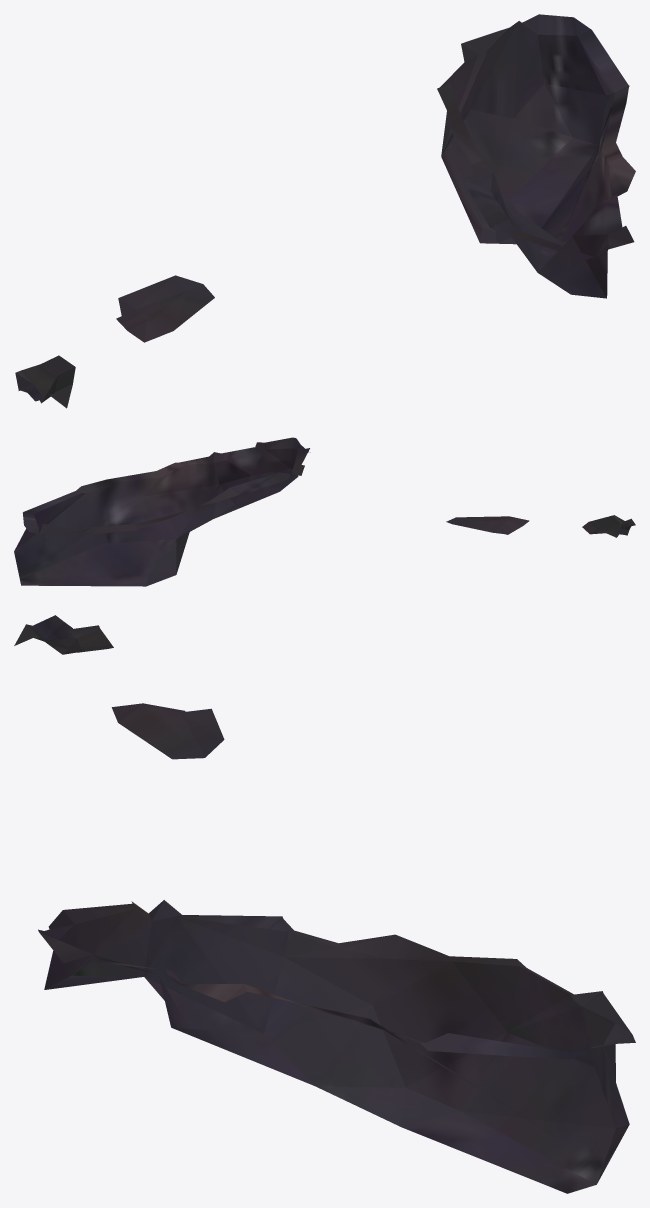
The picture shows the model from 3 angles, top to bottom: view 1: azimuth 30°, elevation 25°; view 2: azimuth 150°, elevation 25°; view 3: azimuth 270°, elevation 25°; orthographic projection. The views are drawn at different scales.
Visible parts, largest first — view 1: Mesh_0; view 2: Mesh_0; view 3: Mesh_0.
Boxes of the visible parts, x1,y1,x2,y2 form: Mesh_0: (15, 14, 635, 408); Mesh_0: (14, 437, 635, 586); Mesh_0: (14, 615, 635, 1193).
Bounding box in the file's own units: 23.51 × 3.69 × 13.8.
Materials: 1 (1 with a texture image).
